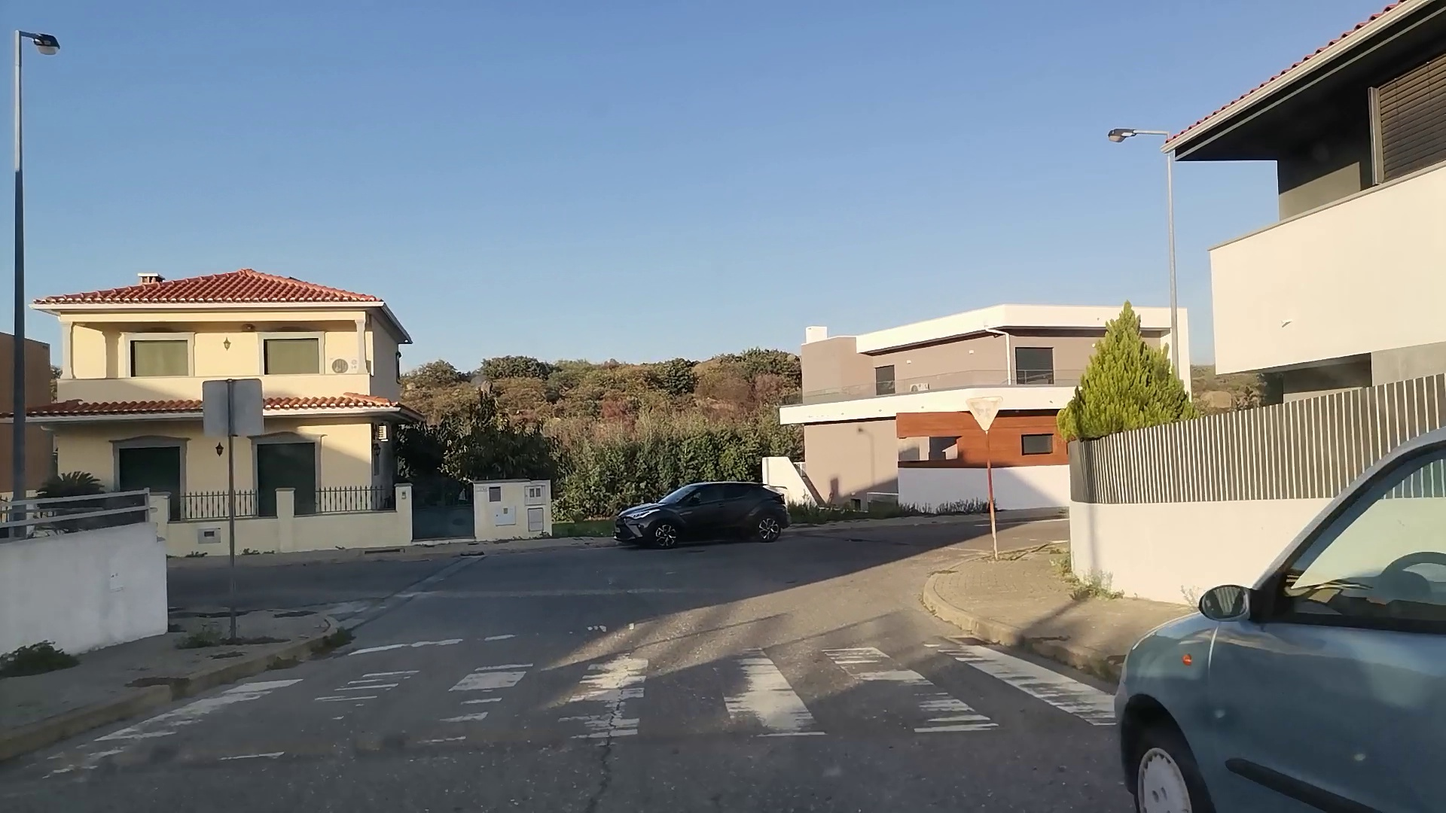Stairs: (75, 646, 1133, 763)
